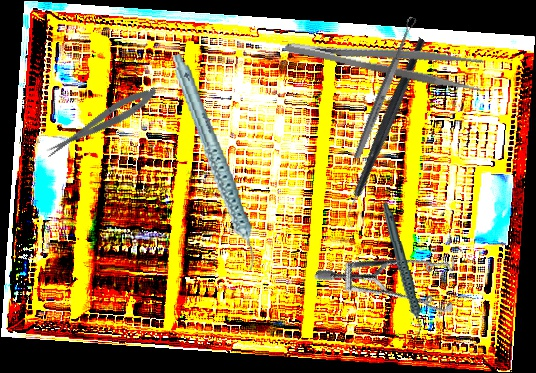Chopper: (291, 35, 483, 232)
Dressing Forceps: (282, 21, 488, 95)
Handpiece: (169, 48, 258, 277), (382, 200, 423, 340)
Micro Scissor: (40, 81, 162, 162)
Speculum: (312, 196, 479, 359)
Surgical Spoon: (351, 15, 419, 161)
